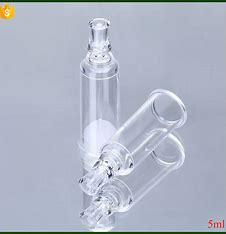Syringe: (74, 86, 191, 227), (78, 13, 122, 126)
